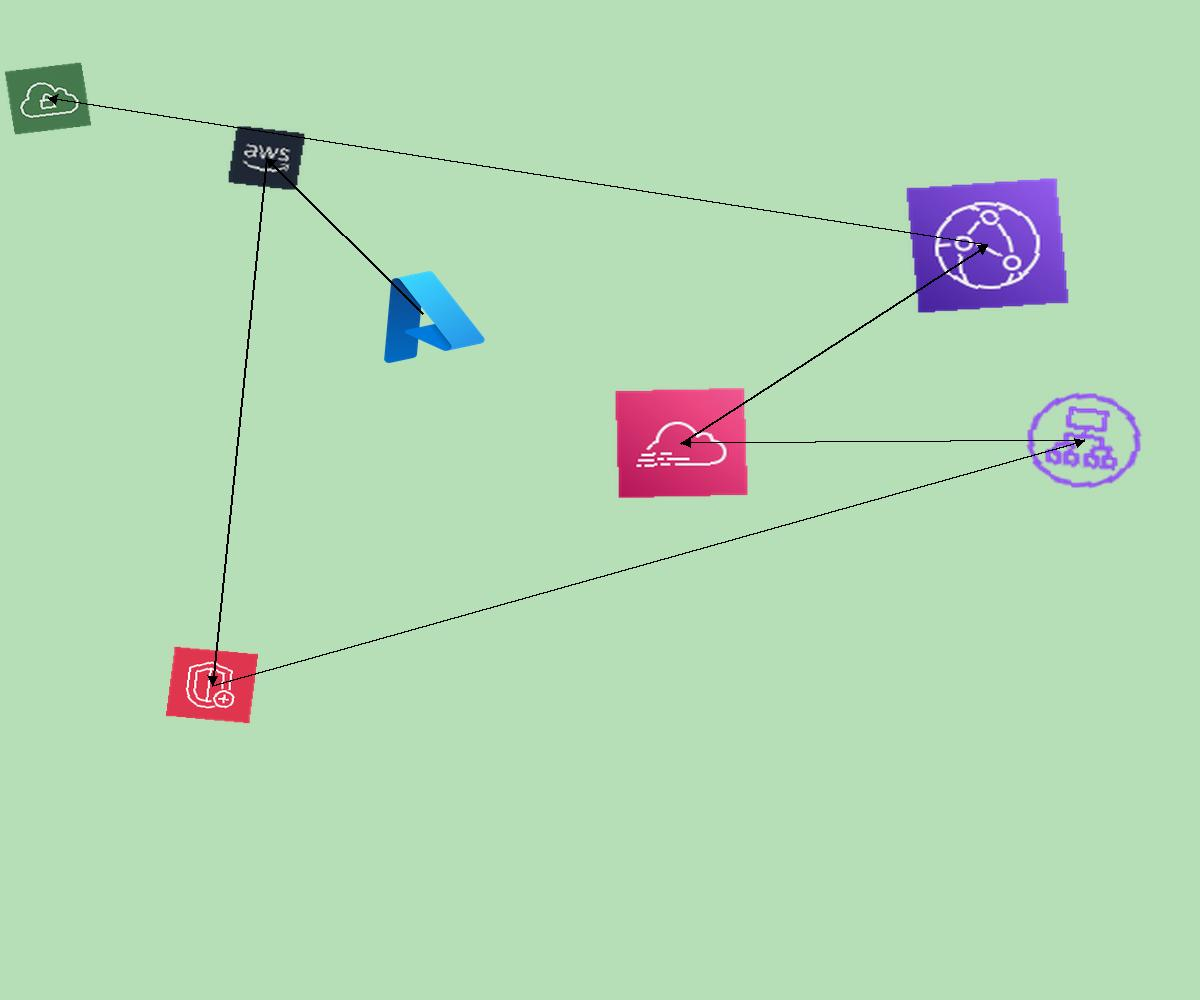AWS-Cloud-logo: (227, 125, 306, 191)
AWS-CloudFront: (905, 177, 1070, 314)
AWS-CloudTrail: (614, 387, 749, 499)
AWS-Private_vpc: (4, 62, 92, 135)
AWS-Res_Elastic-Load-Balancing_Application-Load-Balancer: (1015, 383, 1153, 498)
AWS-Shield: (165, 646, 259, 724)
Azure_services: (355, 257, 492, 371)
